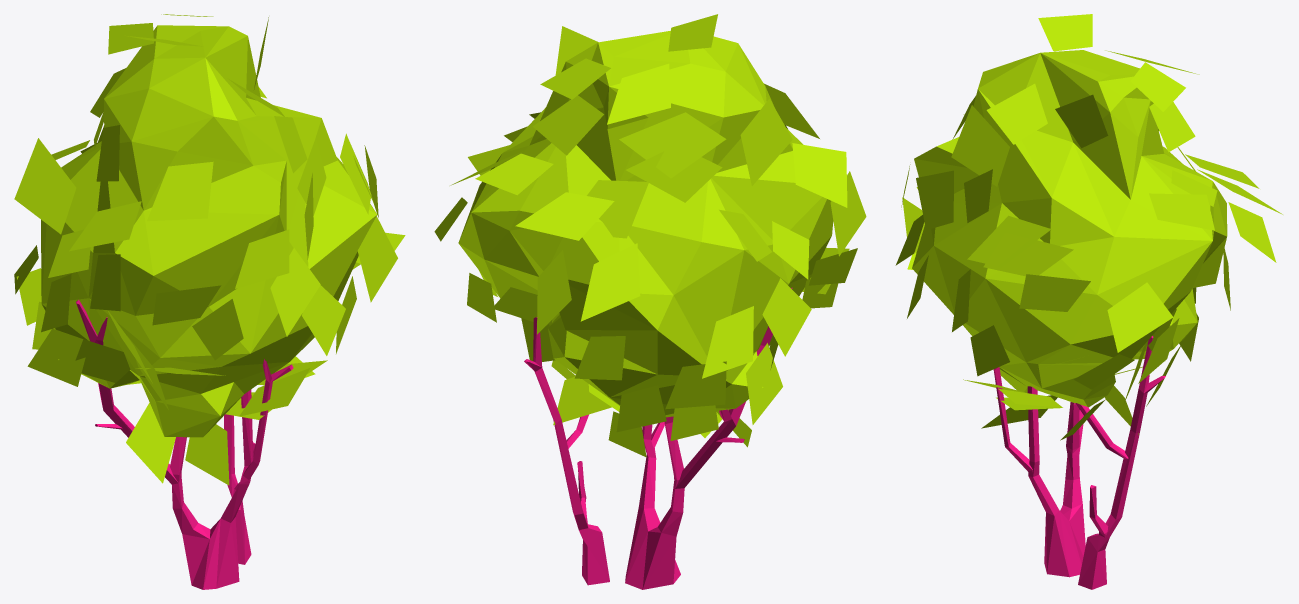
File: SM_Bush_Shrub_A.fbx
3 renders of one model, left to right at view 1: azimuth 30°, elevation 25°; view 2: azimuth 150°, elevation 25°; view 3: azimuth 270°, elevation 25°, orthographic. The views are drawn at different scales.
Parts seen in each view (by area): view 1: SM_Bush_Shrub_A; view 2: SM_Bush_Shrub_A; view 3: SM_Bush_Shrub_A.
Part boxes in pixels (x1=…): SM_Bush_Shrub_A: x1=14, y1=14, x2=405, y2=589; SM_Bush_Shrub_A: x1=434, y1=14, x2=866, y2=589; SM_Bush_Shrub_A: x1=895, y1=14, x2=1282, y2=589.
Size of the model in its own units: 1.97 by 2.97 by 1.99.
